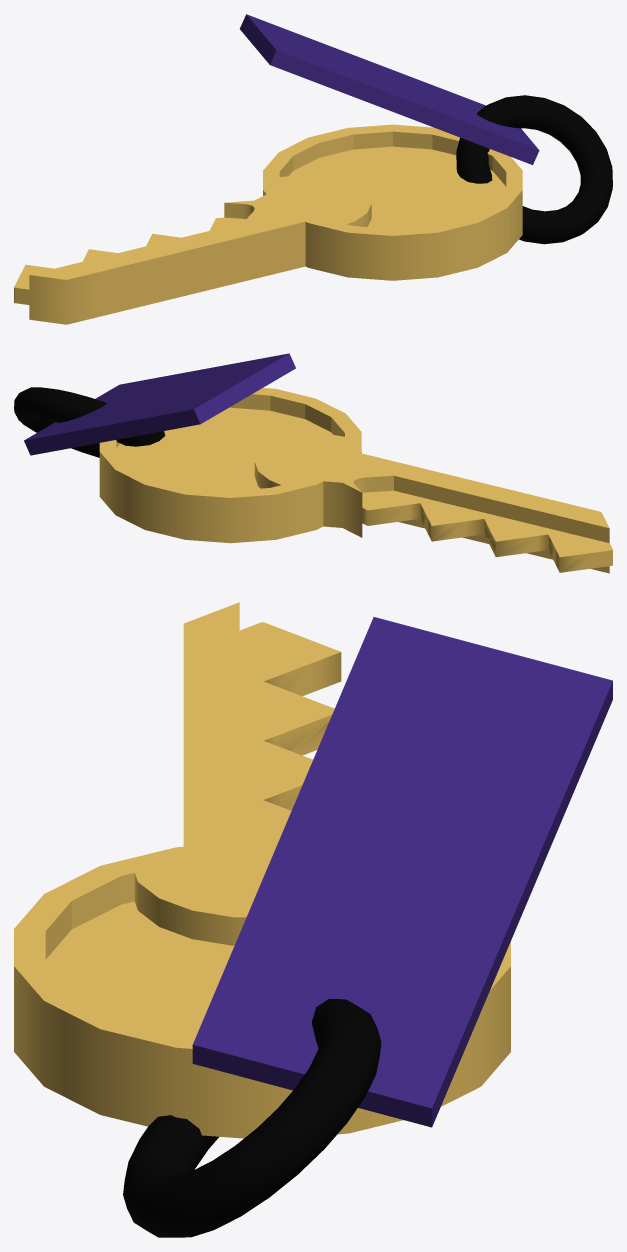
The model's file is ROOM KEYS - PURPLE.fbx.
3 views of the same model, one above another, from view 1: azimuth 30°, elevation 25°; view 2: azimuth 150°, elevation 25°; view 3: azimuth 270°, elevation 25° (orthographic). The views are drawn at different scales.
Parts seen in each view (by area): view 1: Cylinder001, Box001, Box002, Torus001, Cylinder002; view 2: Cylinder001, Box001, Box002, Cylinder002, Torus001; view 3: Box002, Cylinder001, Box001, Torus001, Cylinder002.
Boxes of the visible parts, x1,y1,x2,y2 form: Cylinder001: (263,124,522,280); Box001: (14,190,317,324); Box002: (240,14,539,164); Torus001: (456,95,612,244); Cylinder002: (270,175,371,226); Cylinder001: (99,388,361,543); Box001: (307,449,612,573); Box002: (24,353,295,455); Cylinder002: (254,434,355,488); Torus001: (14,387,165,457); Box002: (192,617,612,1127); Cylinder001: (14,841,510,1138); Box001: (183,602,341,860); Torus001: (123,999,381,1237); Cylinder002: (134,848,274,945).
Size of the model in its own units: 10.31 by 3.41 by 4.75.
